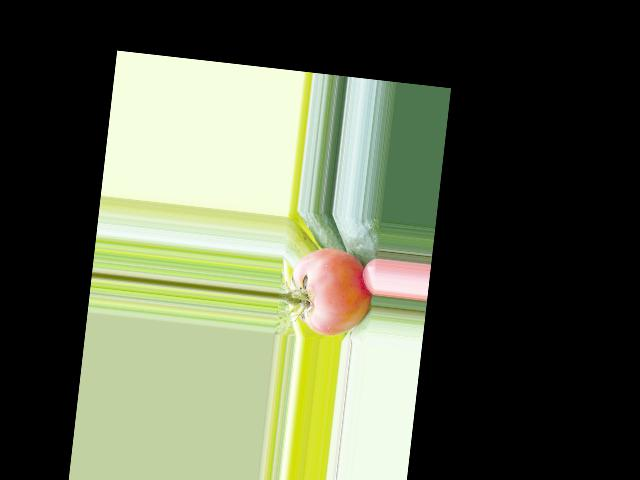tomato: (286, 244, 376, 340)
